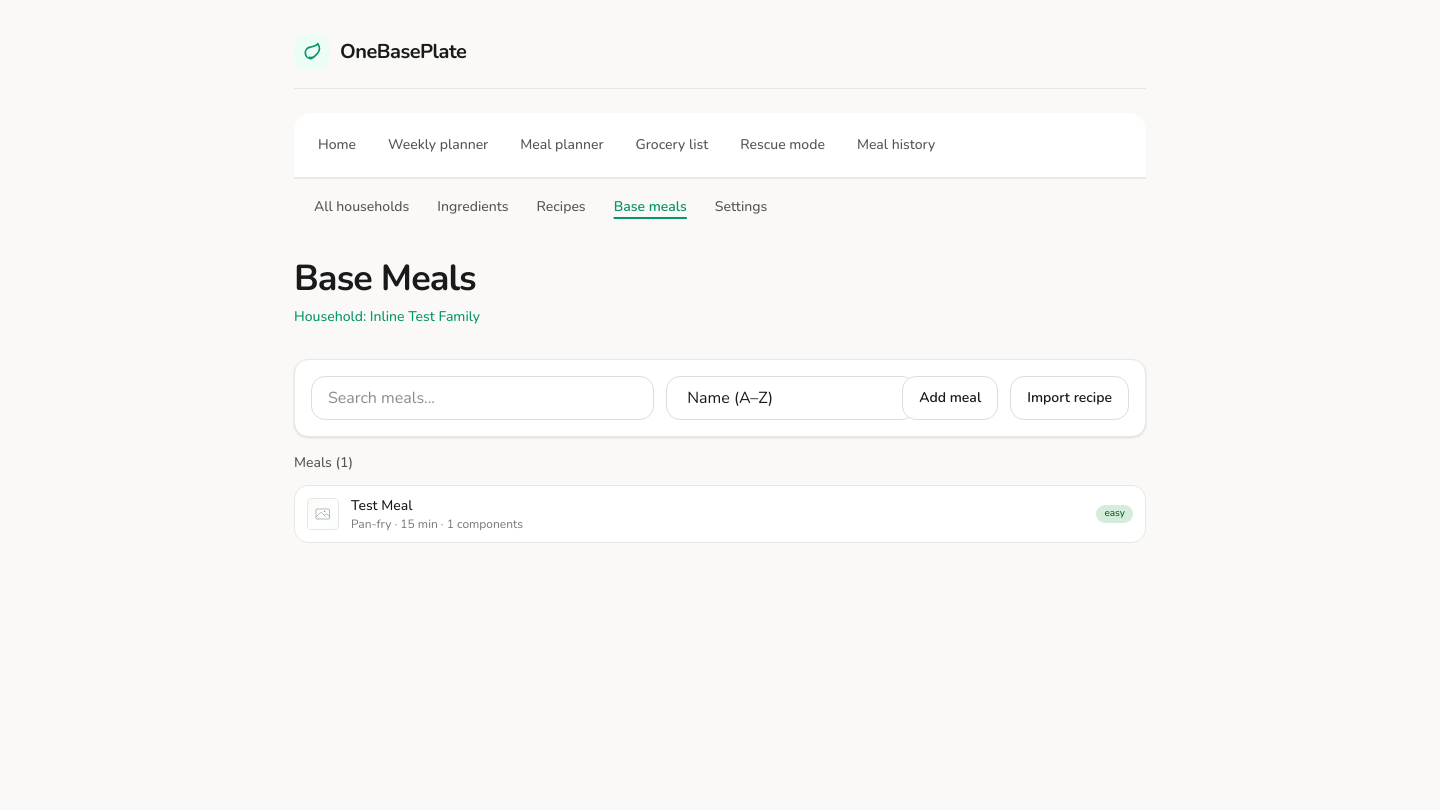
Scenario: F038: Inline ingredient creation and discoverable navigation › Inline ingredient form in Base Meal Manager › shows 'Add new ingredient' button in component form
Click the button with test id "meal-row-meal1". click: (323, 514)
box: [294,485,1146,543]
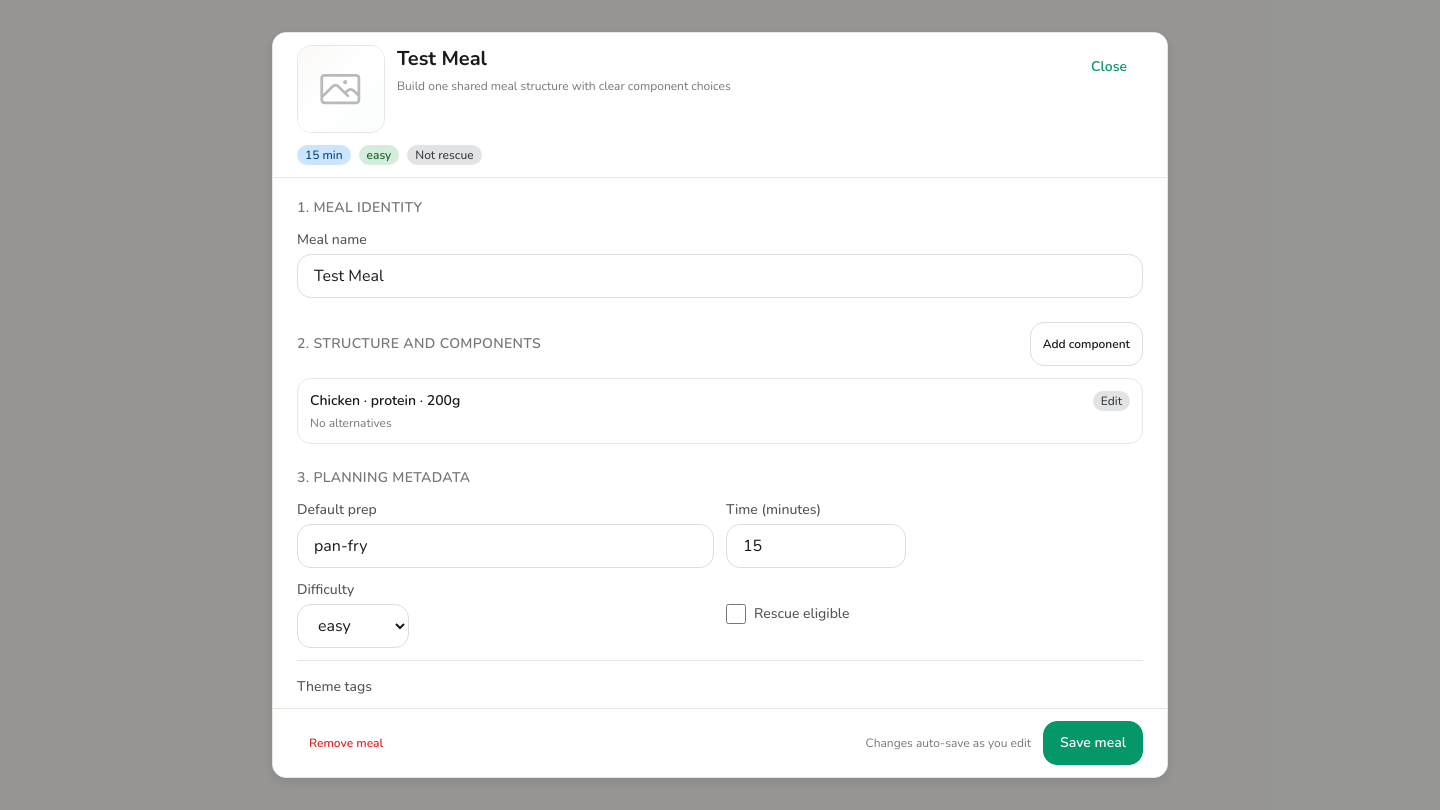
Click the button with test id "component-toggle-0". click: (385, 401)
box: [310,391,1130,431]
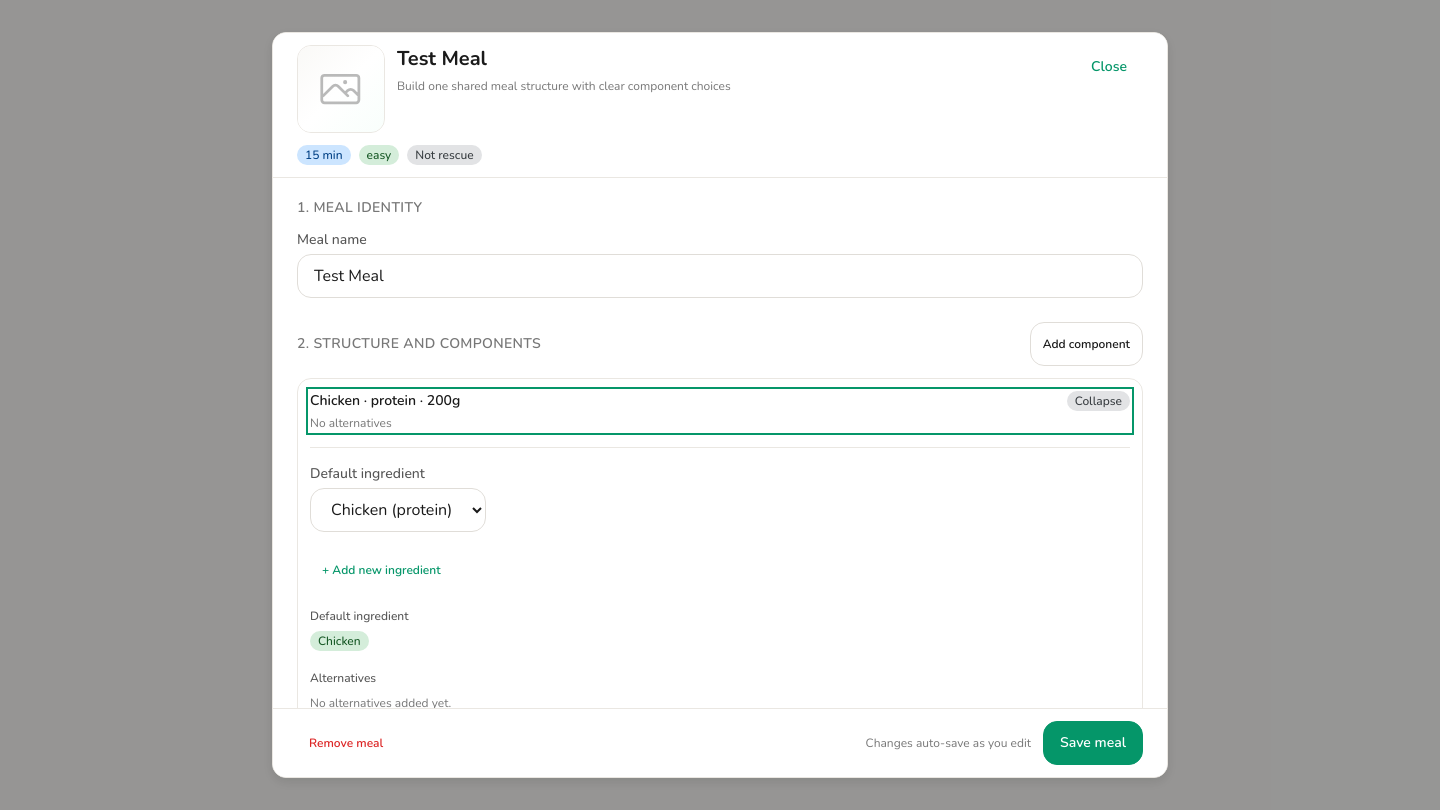
Expected: the button with test id "add-ingredient-inline" is shown, [310,548,453,592]
